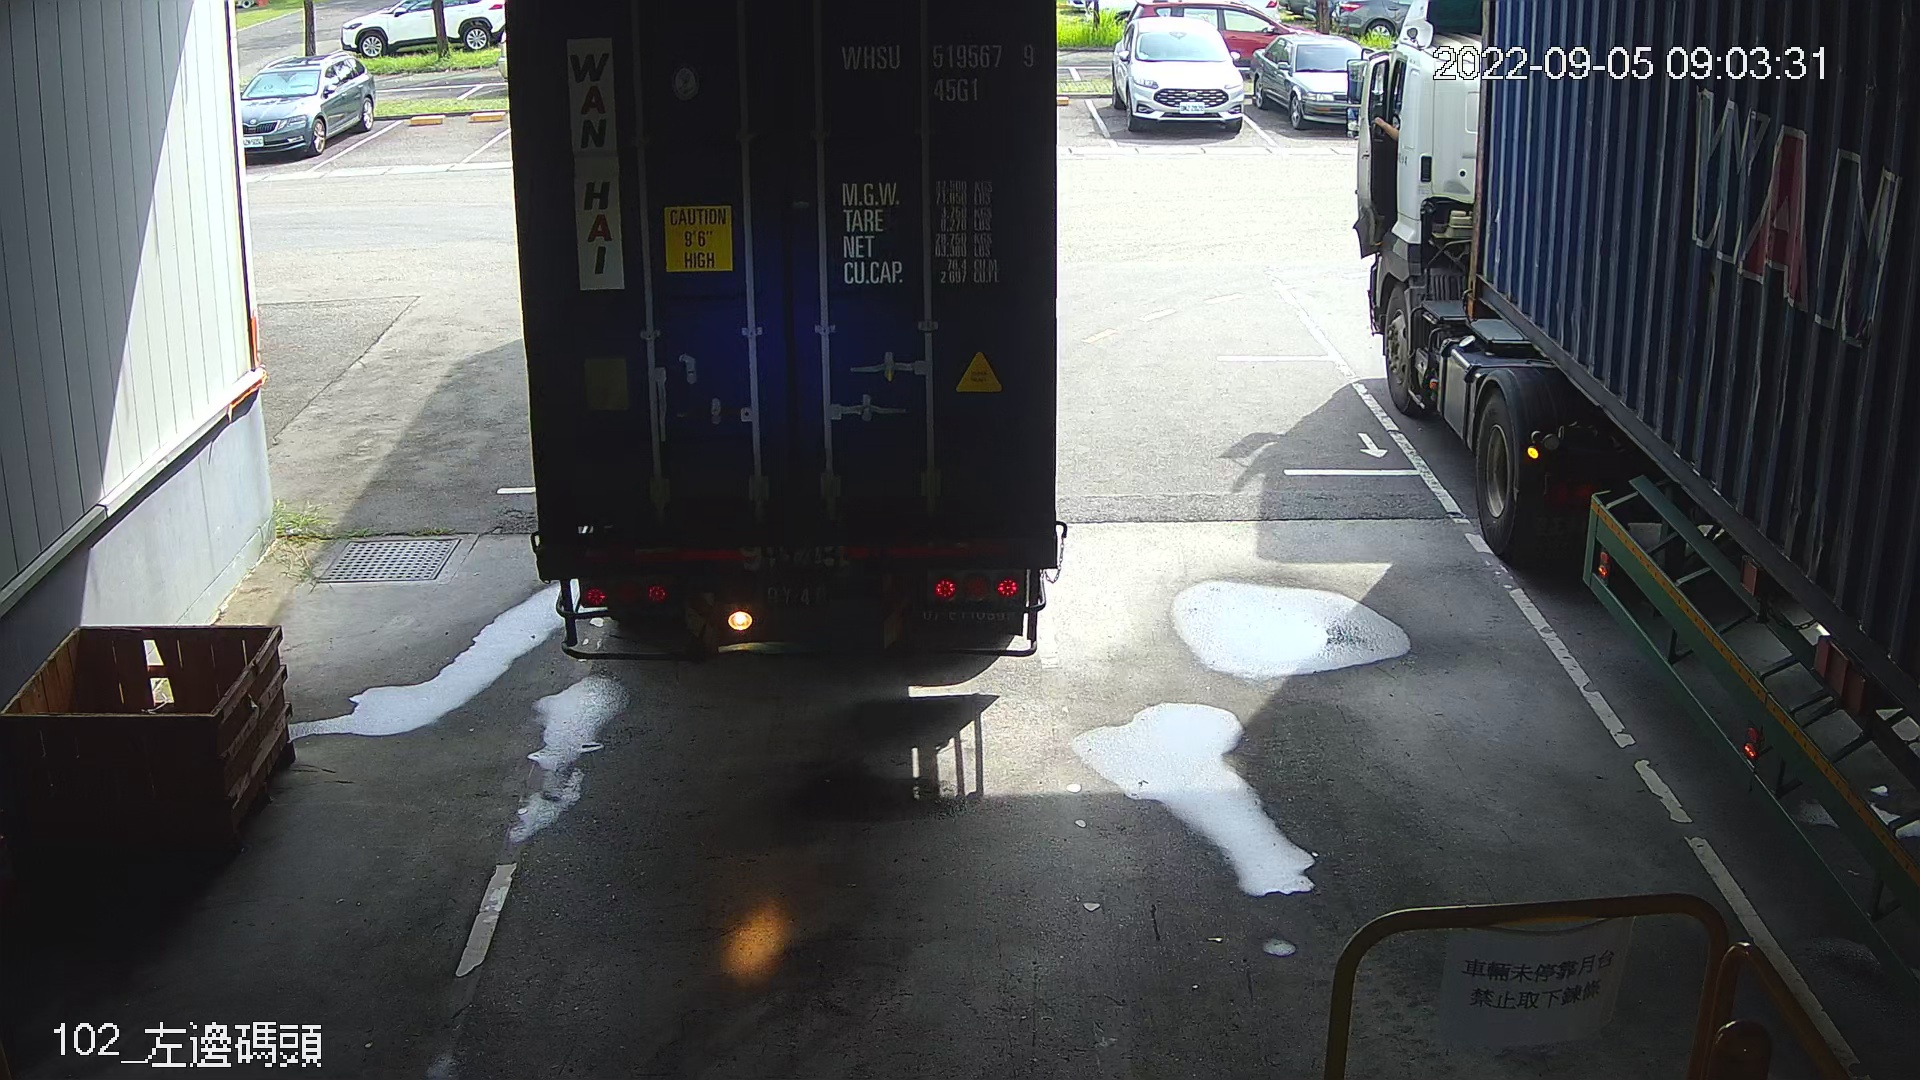container: (832, 30, 1042, 113)
